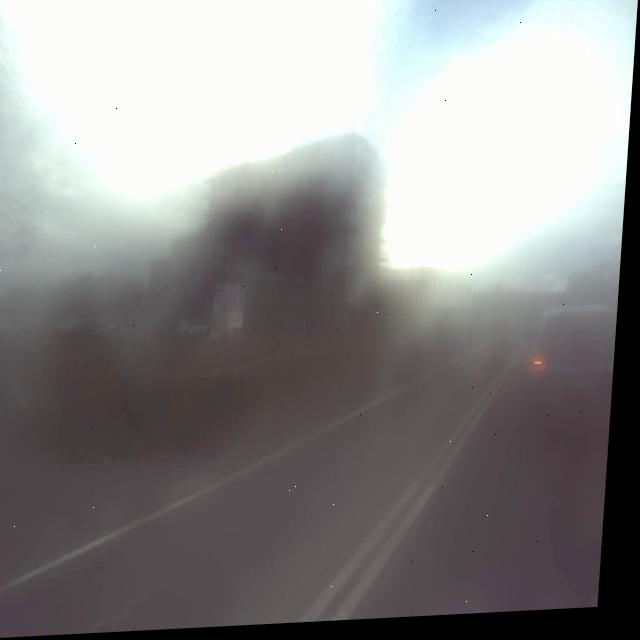car: (525, 294, 623, 446)
